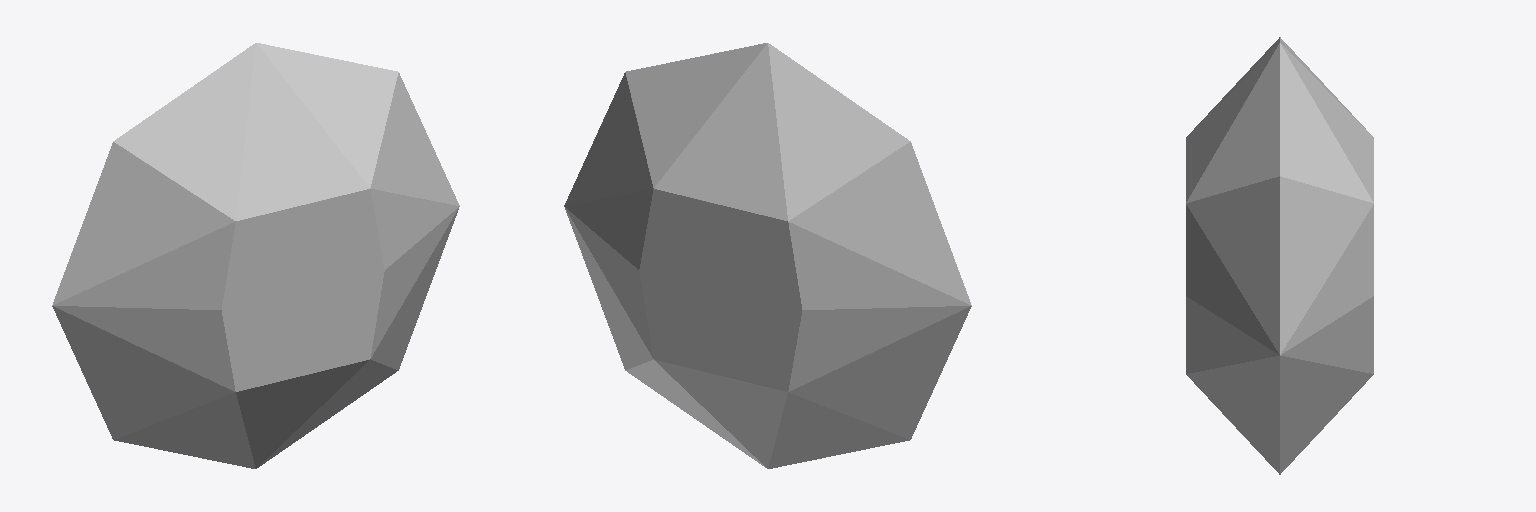
The model's file is xenon_leg_gem.obj.
3 views of the same model, side by side, from view 1: azimuth 30°, elevation 25°; view 2: azimuth 150°, elevation 25°; view 3: azimuth 270°, elevation 25° (orthographic).
Visible parts, largest first — view 1: XenonLegGem; view 2: XenonLegGem; view 3: XenonLegGem.
Part boxes in pixels (x1,y1,x2,y2): XenonLegGem: (52,43,459,468); XenonLegGem: (564,43,971,468); XenonLegGem: (1186,37,1373,474).
Bounding box in the file's own units: 2 × 2 × 0.8.